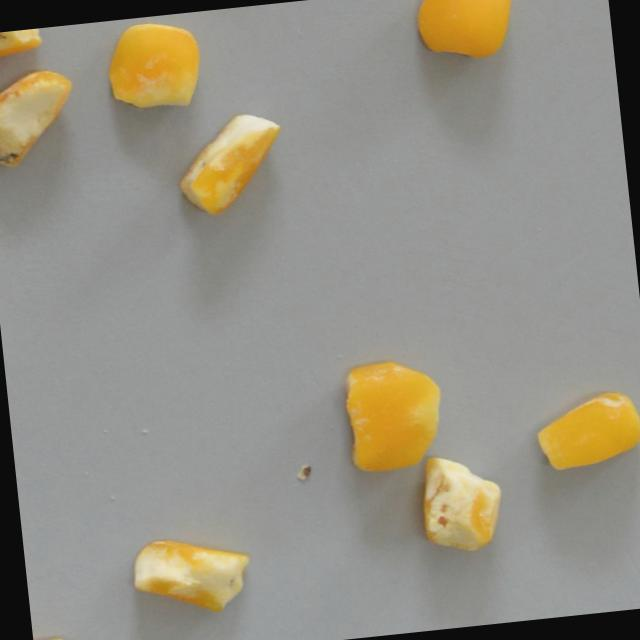dañado: (413, 452, 509, 559)
estandar: (332, 356, 448, 480), (100, 16, 208, 118), (409, 0, 525, 70), (31, 628, 77, 640)
pelicula: (527, 382, 640, 475)
punto_negro: (125, 526, 259, 626), (172, 108, 291, 220), (0, 65, 83, 169), (0, 26, 57, 61)
